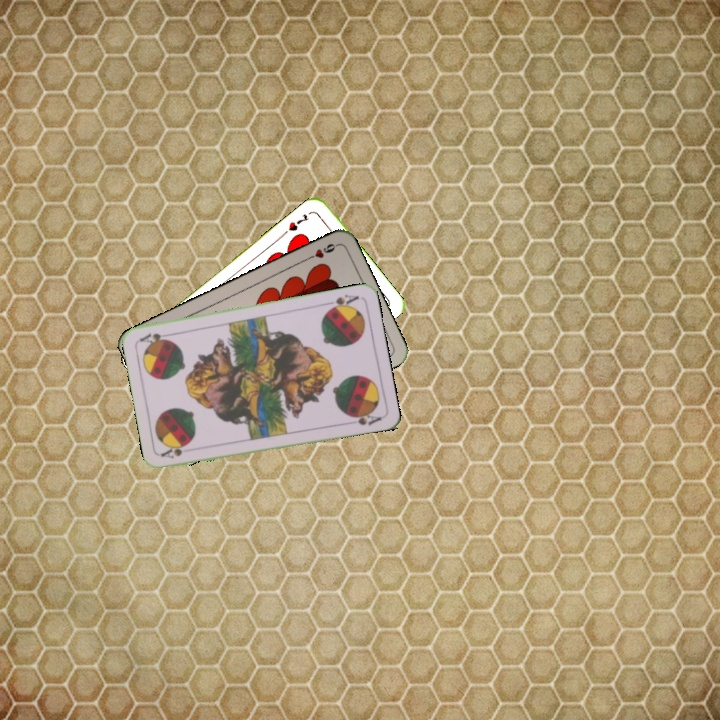H7: (285, 210, 312, 234)
H9: (302, 239, 340, 263)
SA: (321, 290, 362, 313), (157, 443, 187, 461)
